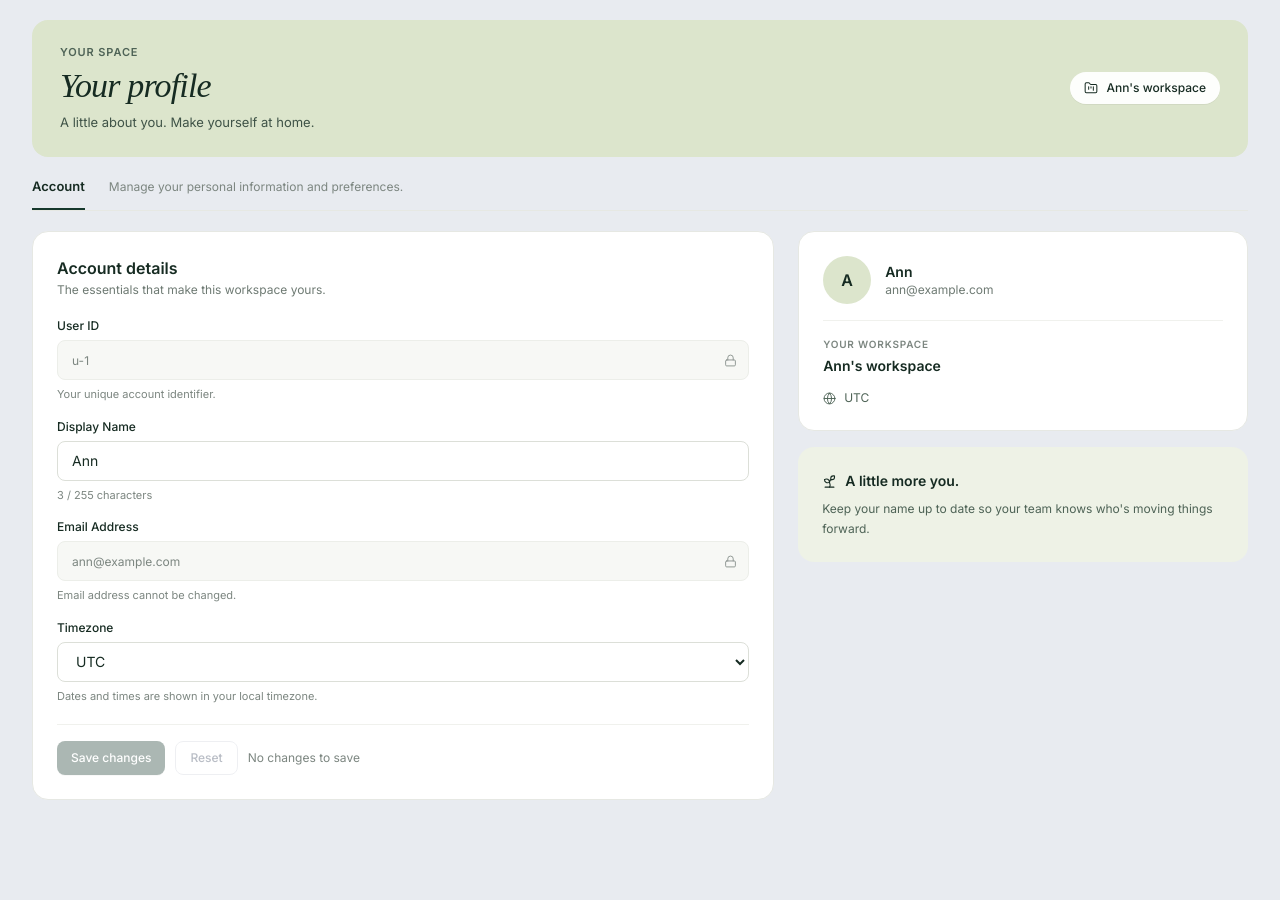
Scenario: ProfilePage › sends exactly {name, timezone} and never email
This screenshot has width=1280, height=900.
Replace the text in the field labelled "Display Name" with "  Ann B ": (403, 460) 57,440 -> 749,480
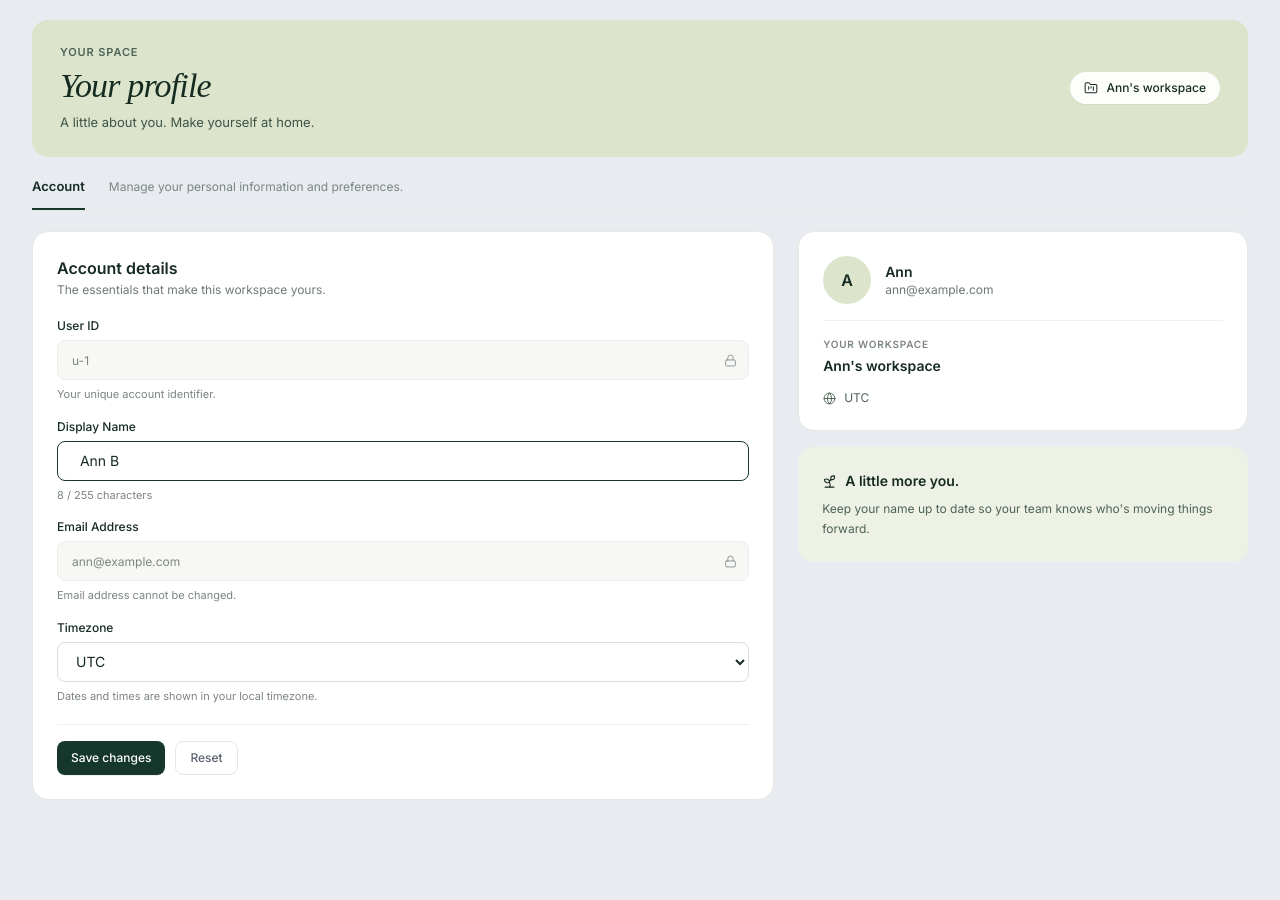
Select "Europe/Paris" in the dropdown labelled "Timezone": (403, 662) 57,642 -> 749,682
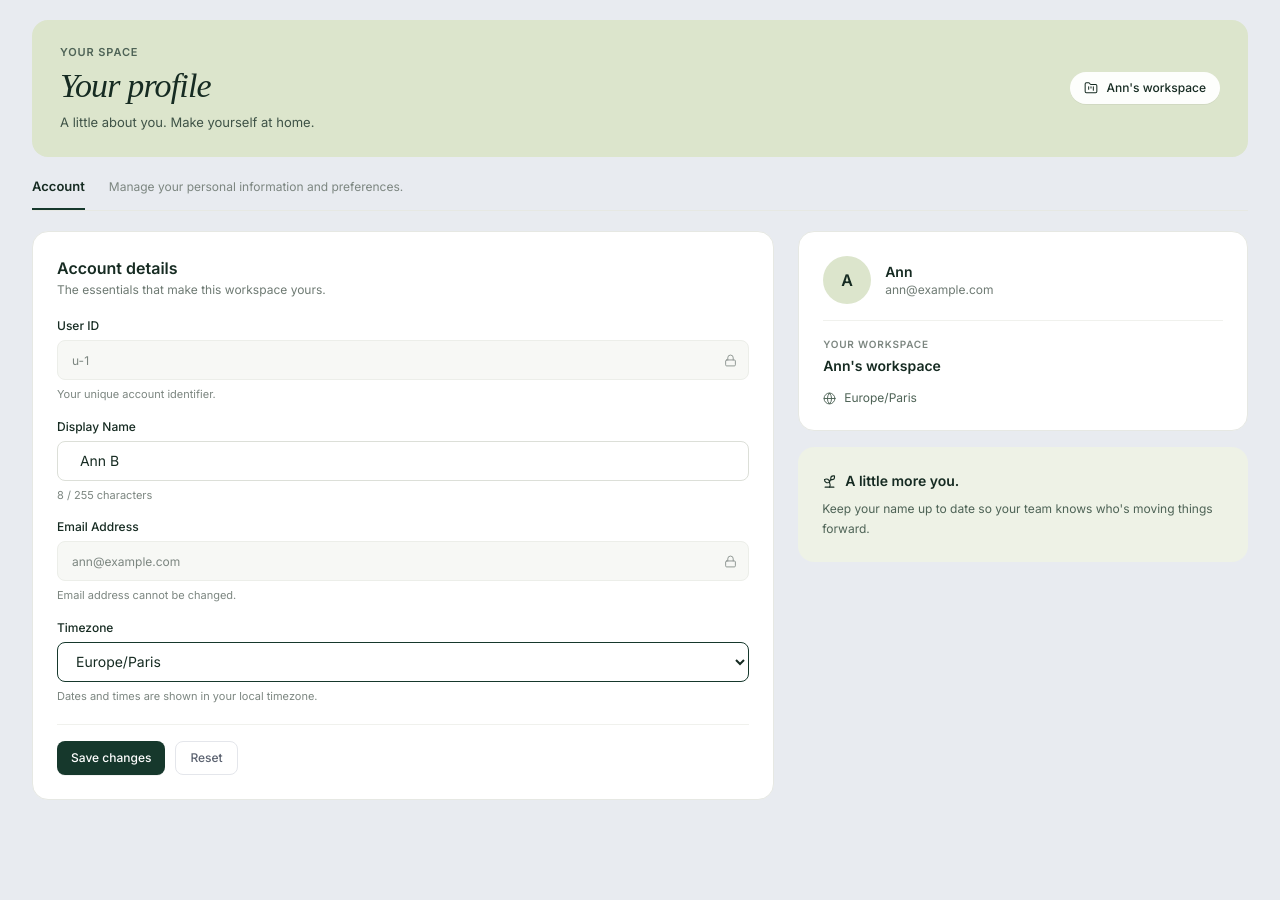
Click the button "Save changes": (111, 758) 57,741 -> 165,775
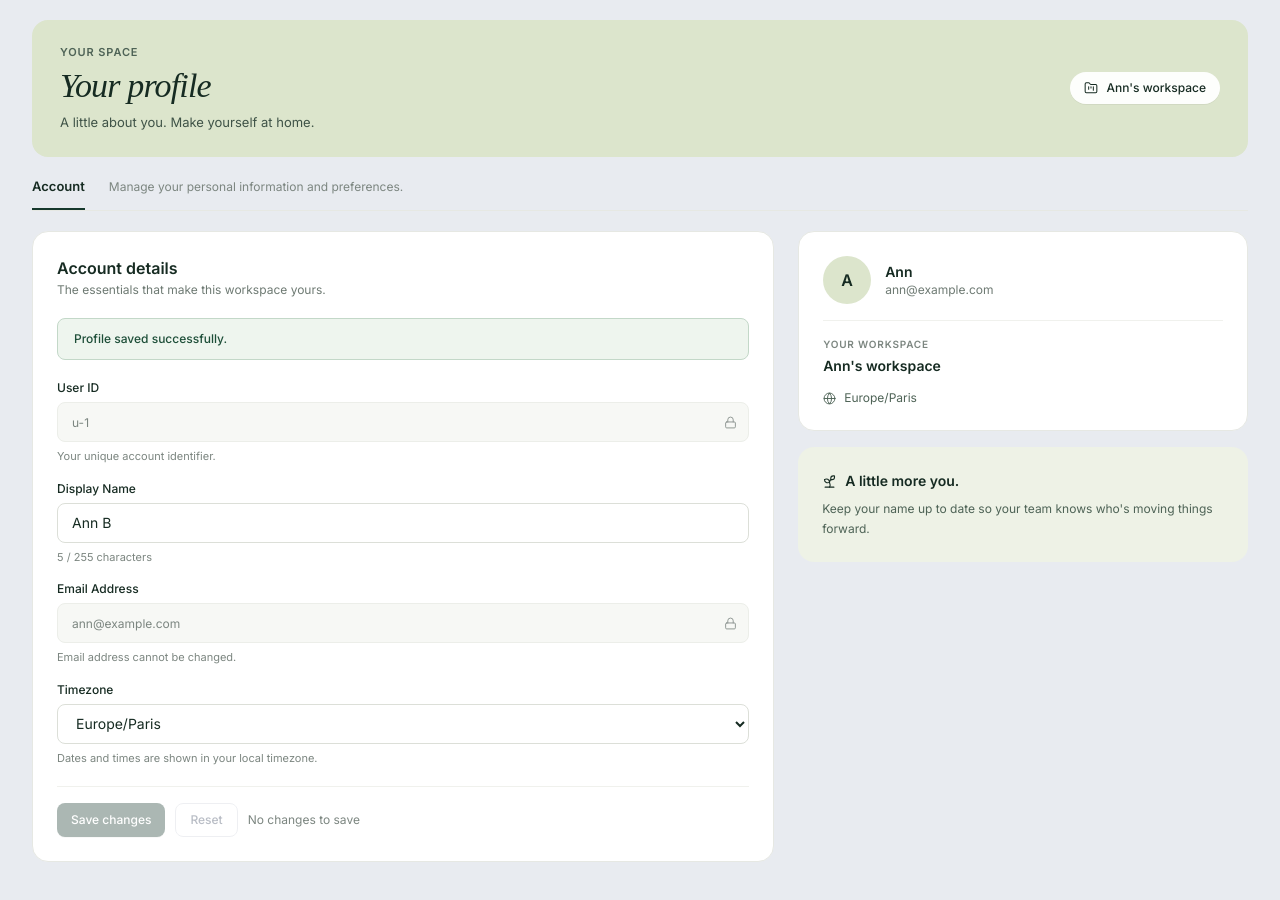
Now the message reads "Profile saved successfully.", box 74,331 -> 227,346
